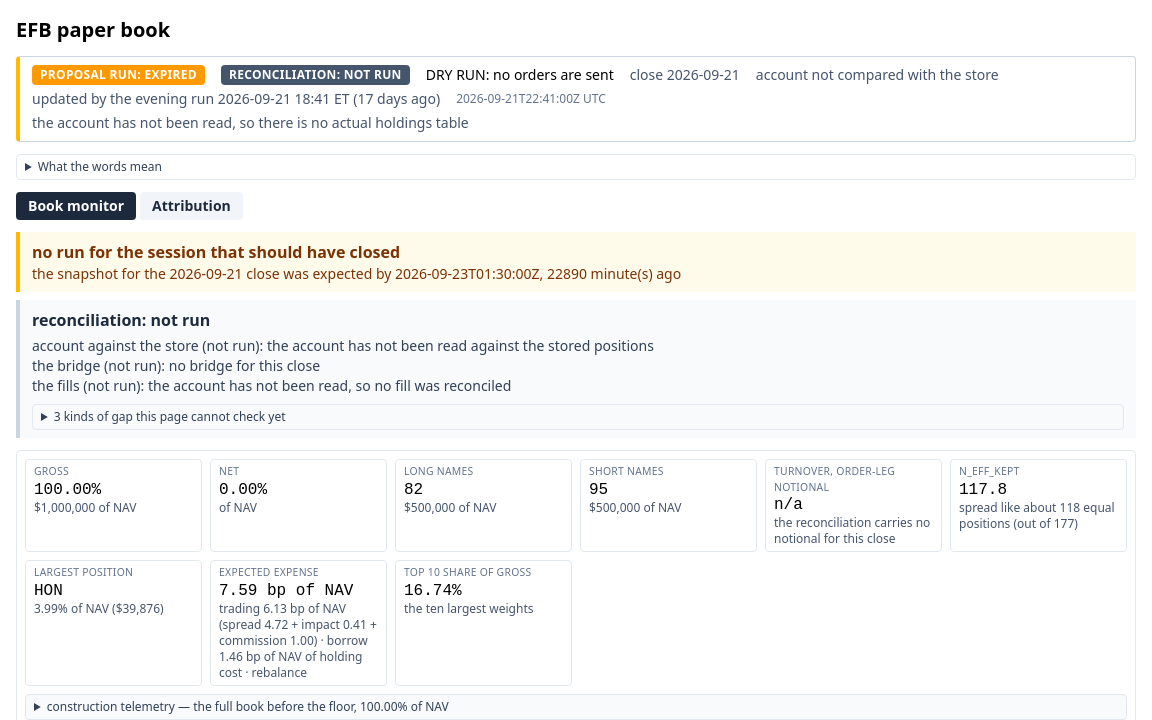
Test: dated notes › lists every note with its date and its text
This screenshot has width=1152, height=720.
Click the tab "Attribution" at (191, 206), box [140,192,243,220]
(page scrolled)
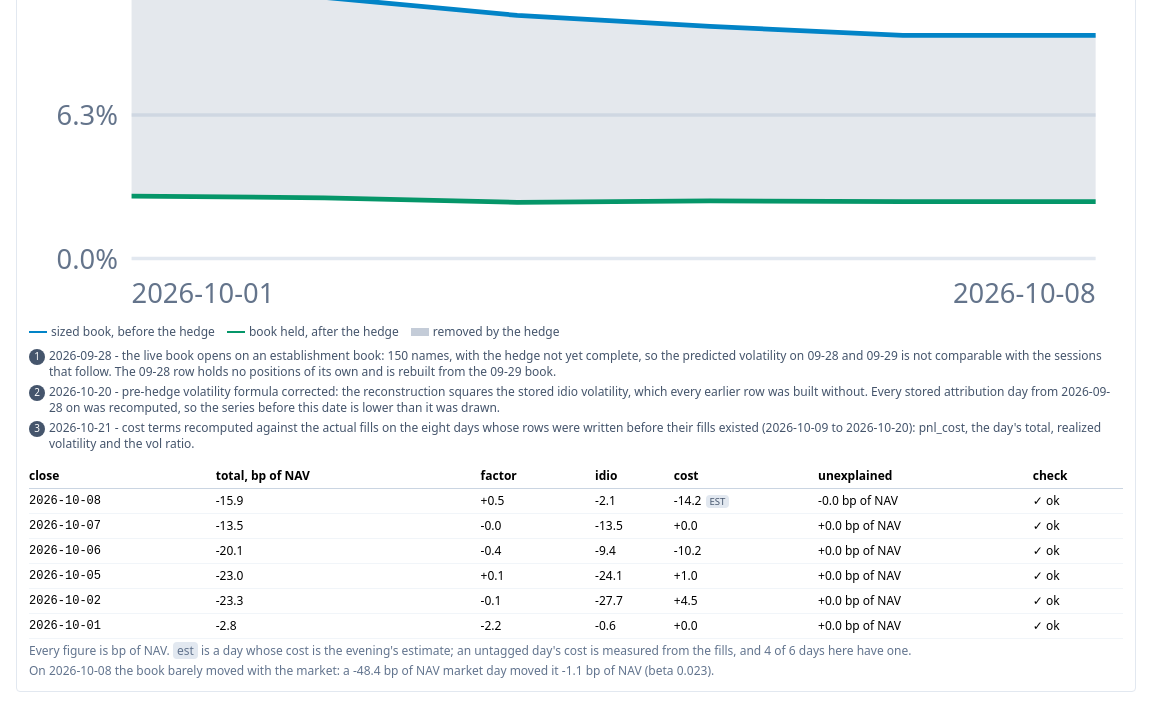
Check: the list named "notes on these charts" is shown, box [29,348,1123,452]
Check: the 4th list item is shown, box [29,348,1123,380]
Check: the 4th list item shows "the live book opens on an establishment book: 150 names, with the hedge not yet complete, so the predicted volatility on 09-28 and 09-29 is not comparable with", box [49,347,1102,380]
